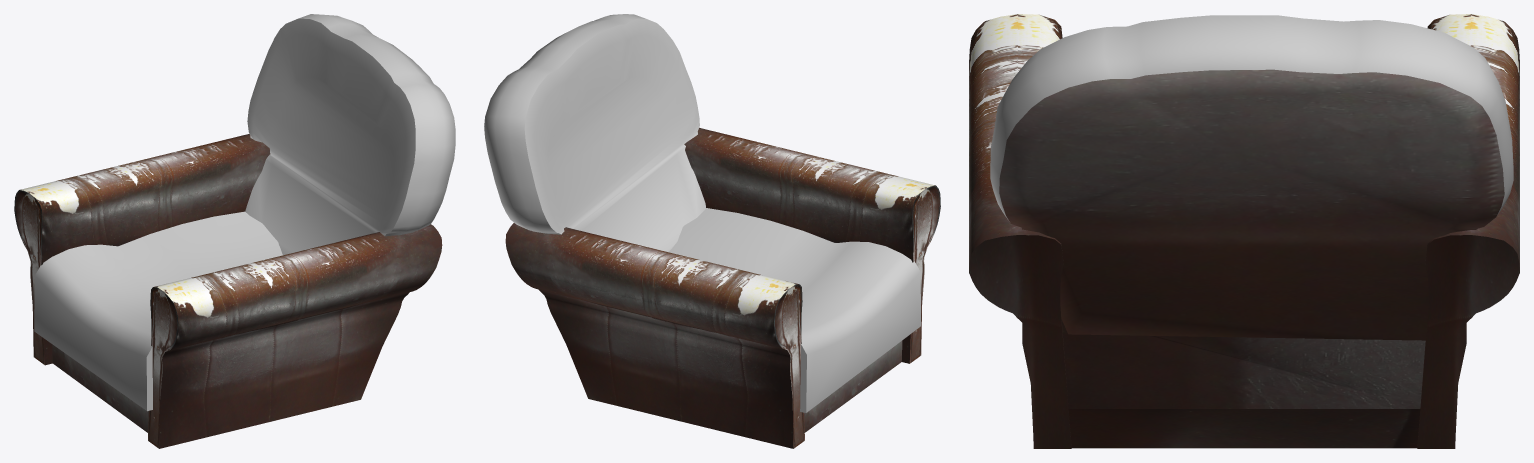
3 views of the same model, side by side, from view 1: azimuth 30°, elevation 25°; view 2: azimuth 150°, elevation 25°; view 3: azimuth 270°, elevation 25° (orthographic). The views are drawn at different scales.
Parts seen in each view (by area): view 1: kreslo; view 2: kreslo; view 3: kreslo.
Part boxes in pixels (box(x1,y1,x2,y2)): kreslo: box(14, 14, 455, 448); kreslo: box(484, 14, 940, 448); kreslo: box(969, 14, 1519, 448).
Size of the model in its own units: 80.8 by 71.63 by 73.44.
